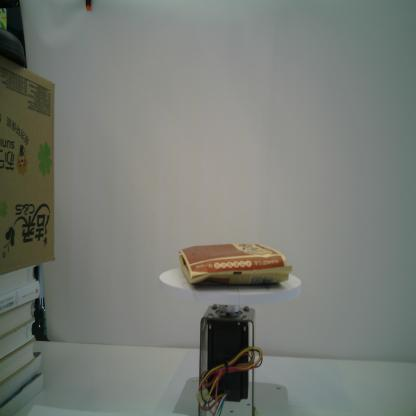Dried Food: (178, 242, 292, 286)
